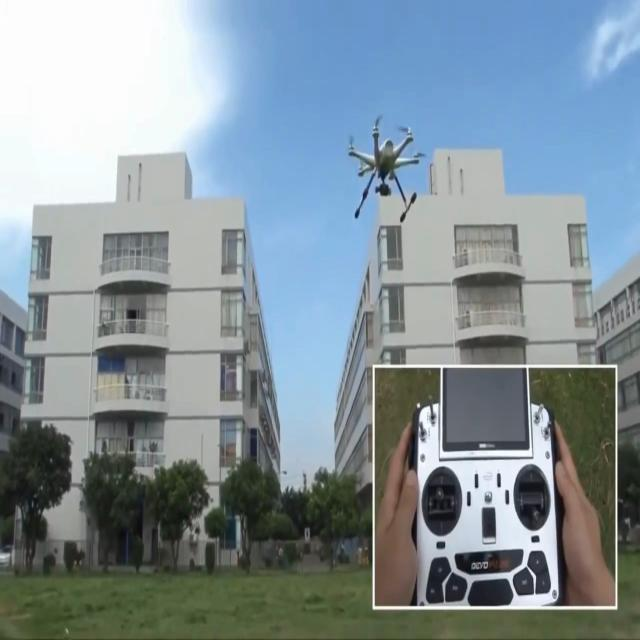drone: (347, 114, 426, 222)
